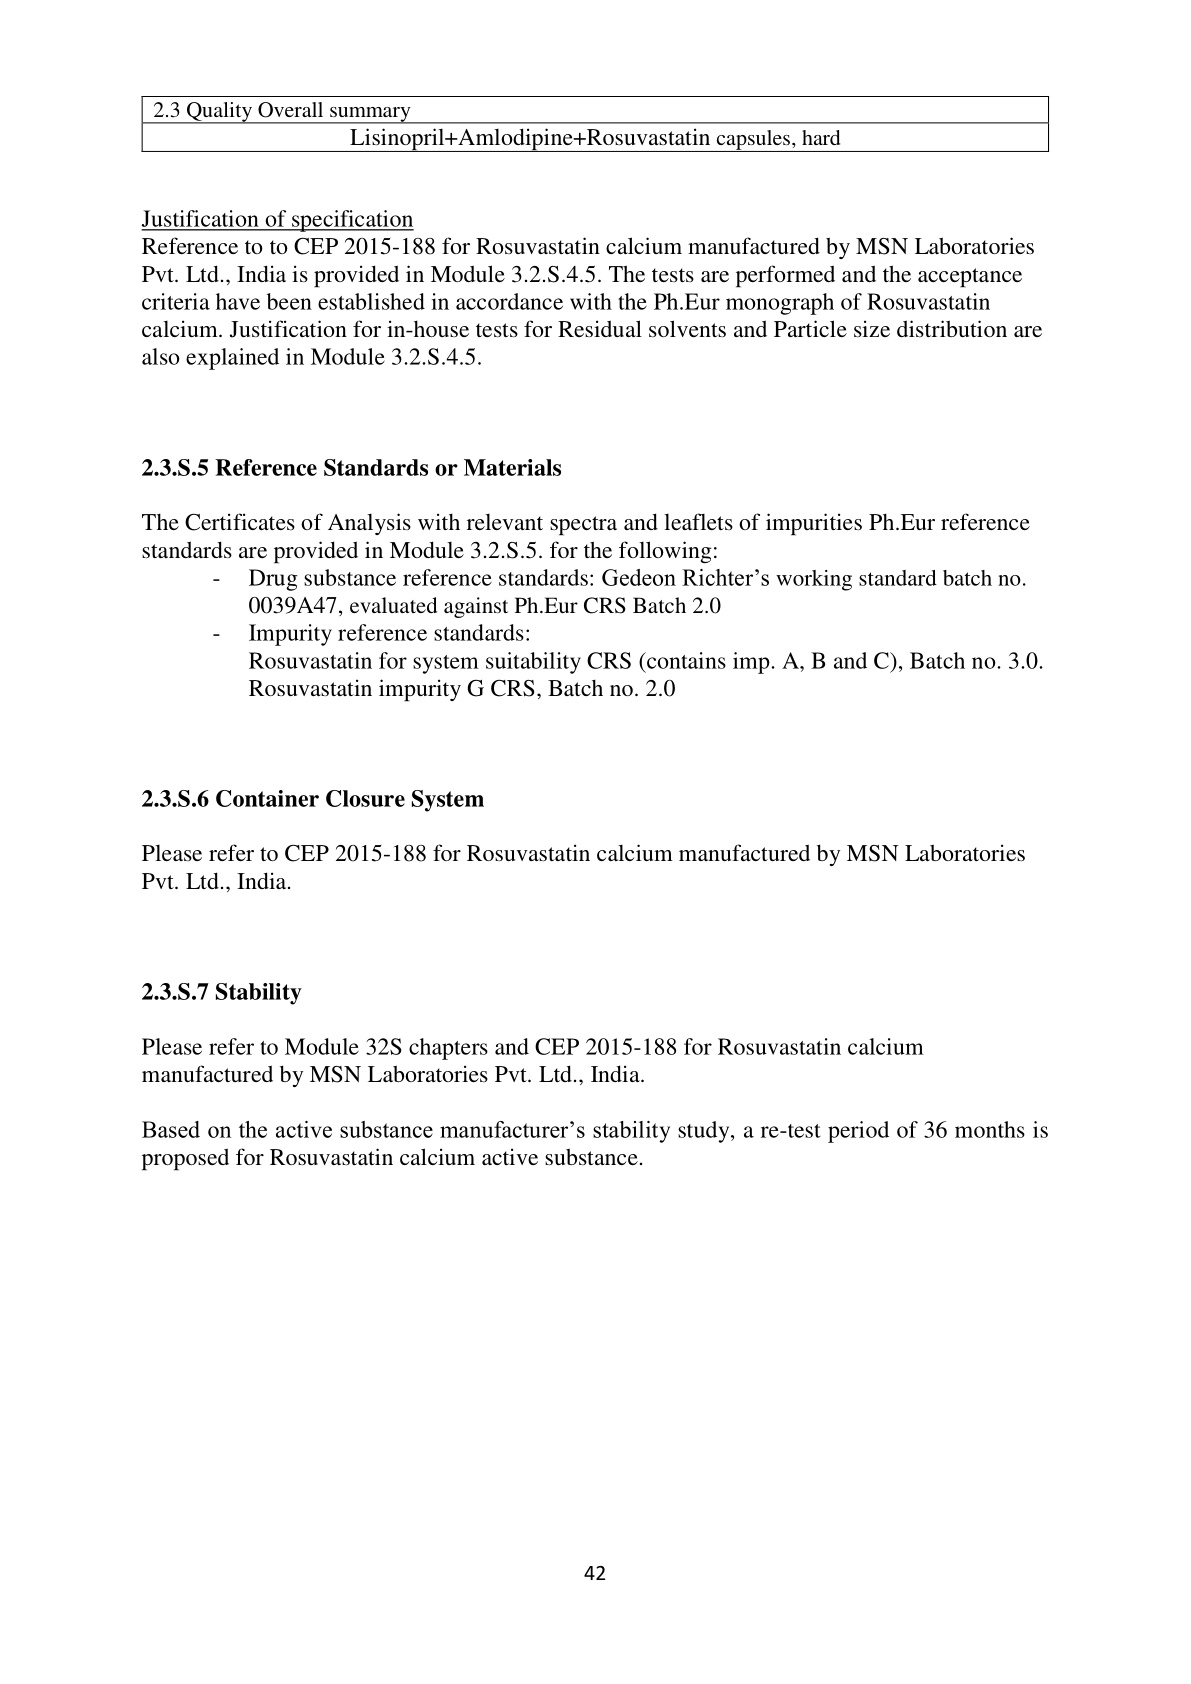full_lined: (140, 97, 1051, 153)
